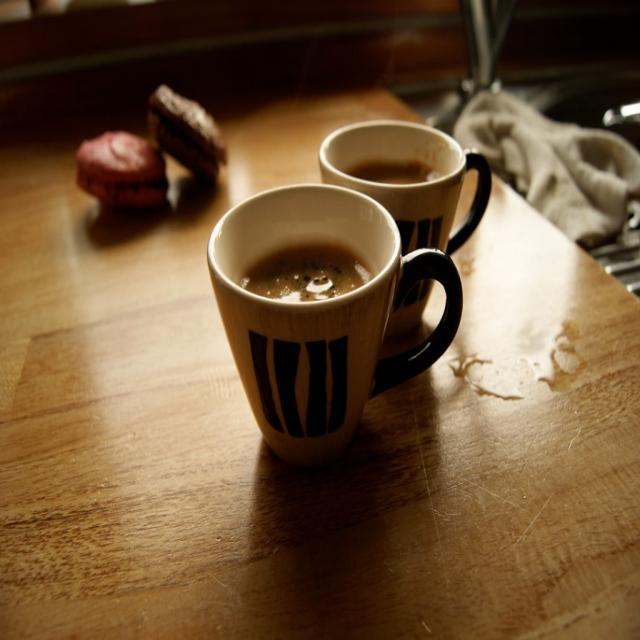Coffee: (241, 241, 371, 300), (348, 162, 444, 188)
Tea: (235, 237, 374, 304), (348, 150, 441, 190)
